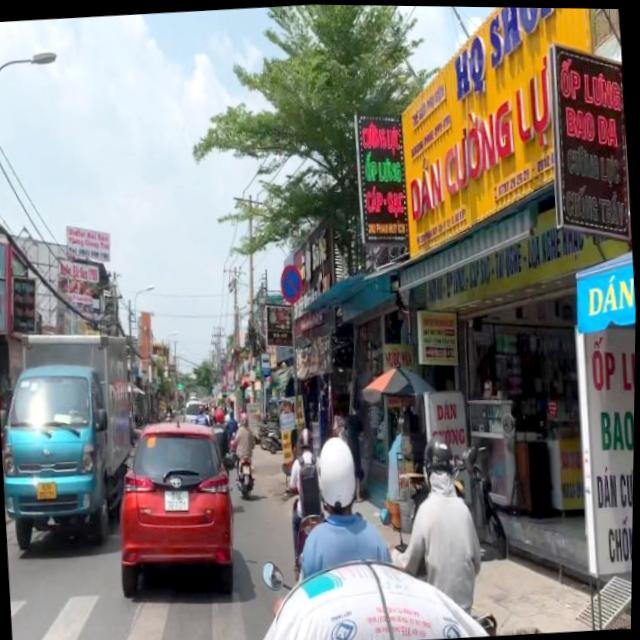Cam do xe: (278, 260, 303, 305)
